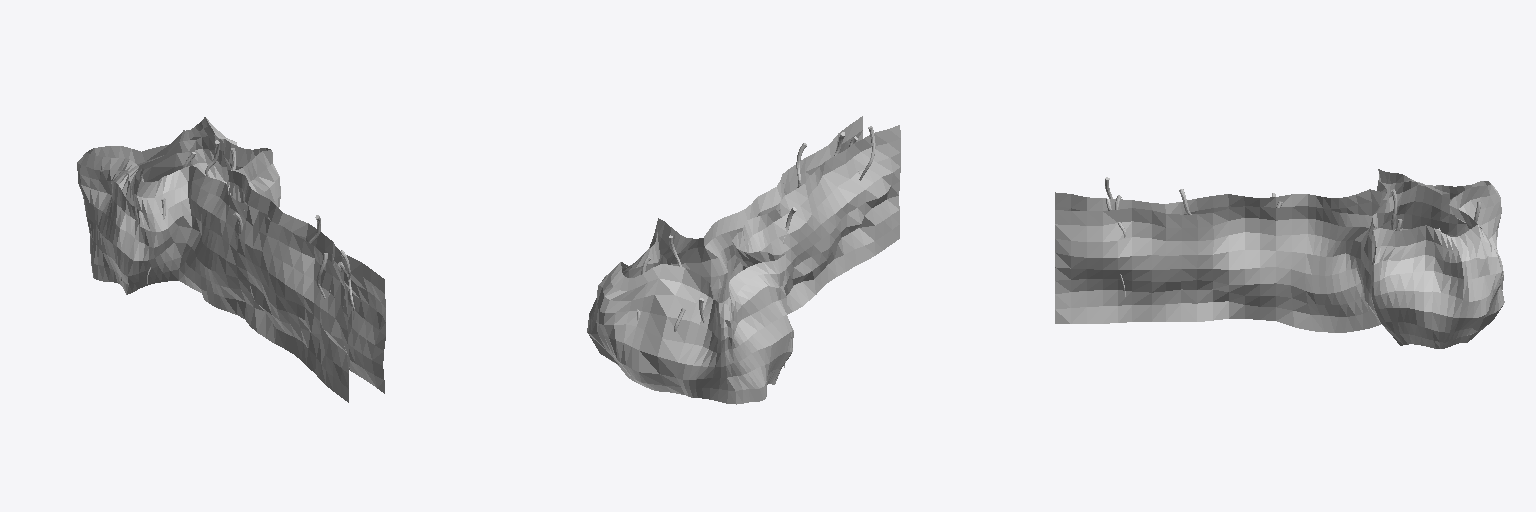
Rendered from ROOTALCOVE.obj.
The picture shows the model from 3 angles: view 1: azimuth 30°, elevation 25°; view 2: azimuth 150°, elevation 25°; view 3: azimuth 270°, elevation 25°; orthographic projection.
Visible parts, largest first — view 1: WallL2 AlCOVE, AlCOVE WallL1, AlCOVE WallL4, AlCOVE WallL3, AlCOVE WallR1, AlCOVE WallL5, AlCOVE WallL6, AlCOVE WallR7, AlCOVE WallR2, AlCOVE WallR4, AlCOVE WallR5, AlCOVE WallL7 (+2 smaller); view 2: AlCOVE WallL1, WallL2 AlCOVE, AlCOVE WallR7, AlCOVE WallL7, AlCOVE WallL6, AlCOVE WallL5, AlCOVE AlcoveRearR, AlCOVE AlcoveRearL, AlCOVE WallR3, AlCOVE WallR4, AlCOVE WallR2, AlCOVE WallR1 (+1 smaller); view 3: AlCOVE WallR2, AlCOVE WallR1, AlCOVE WallR3, AlCOVE WallR5, AlCOVE WallR6, AlCOVE WallL5, AlCOVE WallL7, WallL2 AlCOVE, AlCOVE WallR7, AlCOVE WallL1, AlCOVE WallL6, AlCOVE WallL3 (+1 smaller).
Part boxes in pixels (left/top/right/bottom): WallL2 AlCOVE: left=215, top=194, right=303, bottom=353; AlCOVE WallL1: left=285, top=240, right=349, bottom=402; AlCOVE WallL4: left=127, top=166, right=191, bottom=294; AlCOVE WallL3: left=179, top=166, right=229, bottom=311; AlCOVE WallR1: left=324, top=236, right=385, bottom=393; AlCOVE WallL5: left=102, top=163, right=139, bottom=294; AlCOVE WallL6: left=77, top=152, right=133, bottom=280; AlCOVE WallR7: left=173, top=117, right=229, bottom=190; AlCOVE WallR2: left=247, top=190, right=325, bottom=255; AlCOVE WallR4: left=231, top=150, right=277, bottom=206; AlCOVE WallR5: left=224, top=139, right=280, bottom=207; AlCOVE WallL7: left=83, top=146, right=149, bottom=198; AlCOVE WallL1: left=820, top=125, right=900, bottom=281; WallL2 AlCOVE: left=767, top=167, right=835, bottom=314; AlCOVE WallR7: left=588, top=262, right=661, bottom=390; AlCOVE WallL7: left=677, top=276, right=735, bottom=403; AlCOVE WallL6: left=728, top=275, right=771, bottom=404; AlCOVE WallL5: left=737, top=254, right=793, bottom=384; AlCOVE AlcoveRearR: left=639, top=264, right=684, bottom=392; AlCOVE AlcoveRearL: left=658, top=268, right=700, bottom=394; AlCOVE WallR3: left=704, top=209, right=746, bottom=304; AlCOVE WallR4: left=658, top=218, right=718, bottom=300; AlCOVE WallR2: left=735, top=165, right=797, bottom=275; AlCOVE WallR1: left=797, top=116, right=862, bottom=185; AlCOVE WallR2: left=1181, top=206, right=1313, bottom=330; AlCOVE WallR1: left=1055, top=208, right=1181, bottom=323; AlCOVE WallR3: left=1305, top=206, right=1380, bottom=332; AlCOVE WallR5: left=1372, top=225, right=1435, bottom=348; AlCOVE WallR6: left=1432, top=225, right=1486, bottom=348; AlCOVE WallL5: left=1377, top=169, right=1433, bottom=230; AlCOVE WallL7: left=1453, top=184, right=1503, bottom=280; WallL2 AlCOVE: left=1181, top=194, right=1307, bottom=214; AlCOVE WallR7: left=1459, top=210, right=1504, bottom=341; AlCOVE WallL1: left=1055, top=192, right=1181, bottom=214; AlCOVE WallL6: left=1430, top=181, right=1490, bottom=236; AlCOVE WallL3: left=1308, top=189, right=1382, bottom=216.
Bounding box in the file's own units: 902 × 774 × 2137.